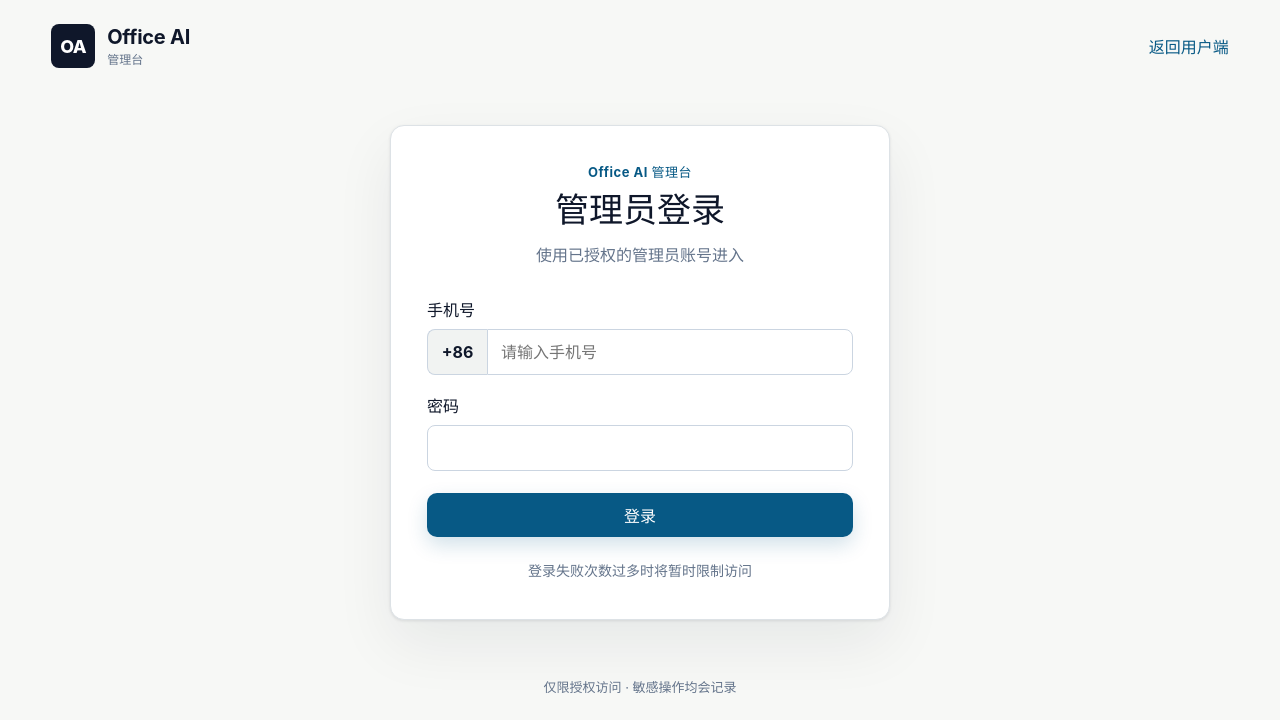
Test: Login view › does not let a normal user enter the administrator shell
Type "13800138000" into the field with test id "phone-number". click: (670, 352)
box: [487,329,853,375]
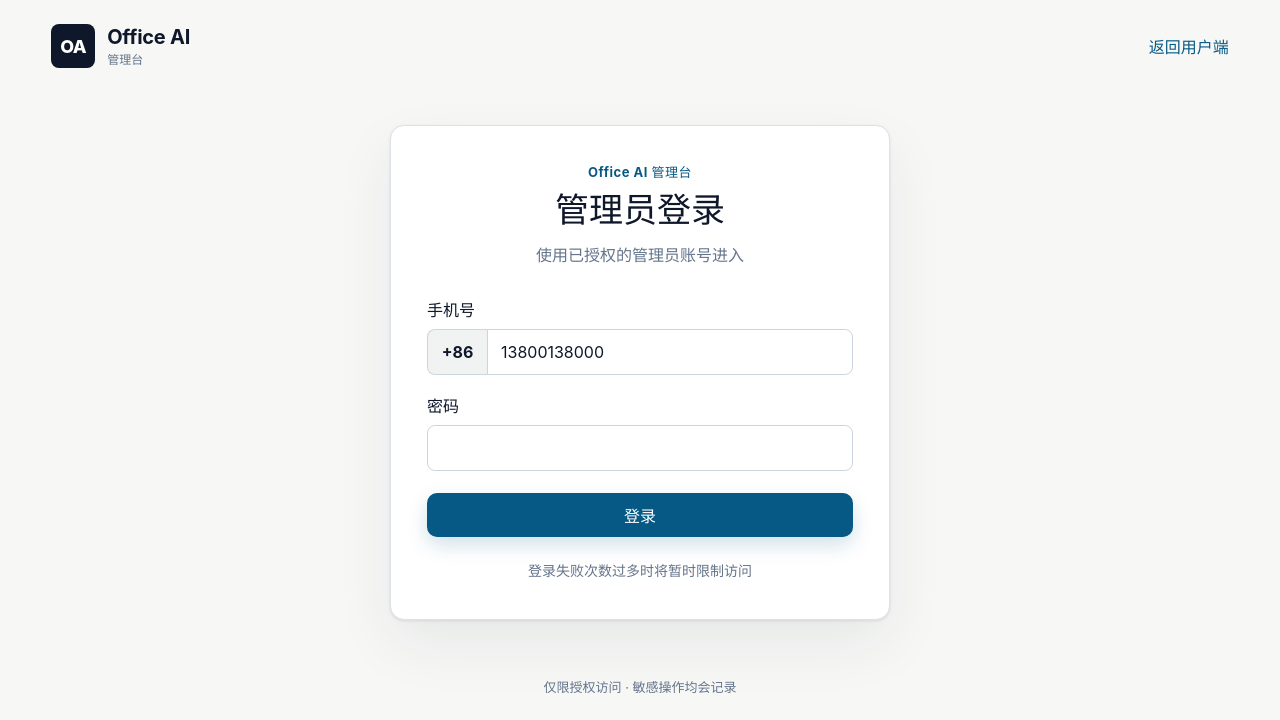
Type "safe-password" into the password field with test id "password". click: (640, 448)
box: [427,425,853,471]
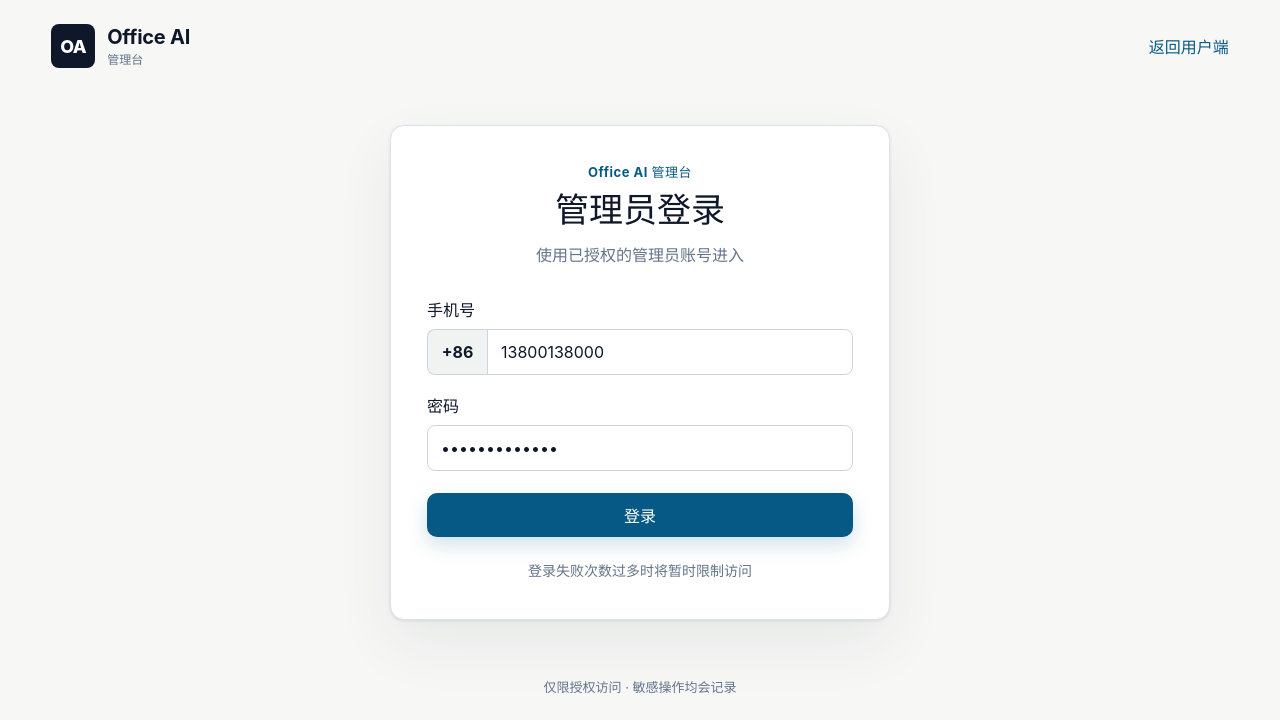
Submit the form with test id "login-submit", box [427,297,853,583]
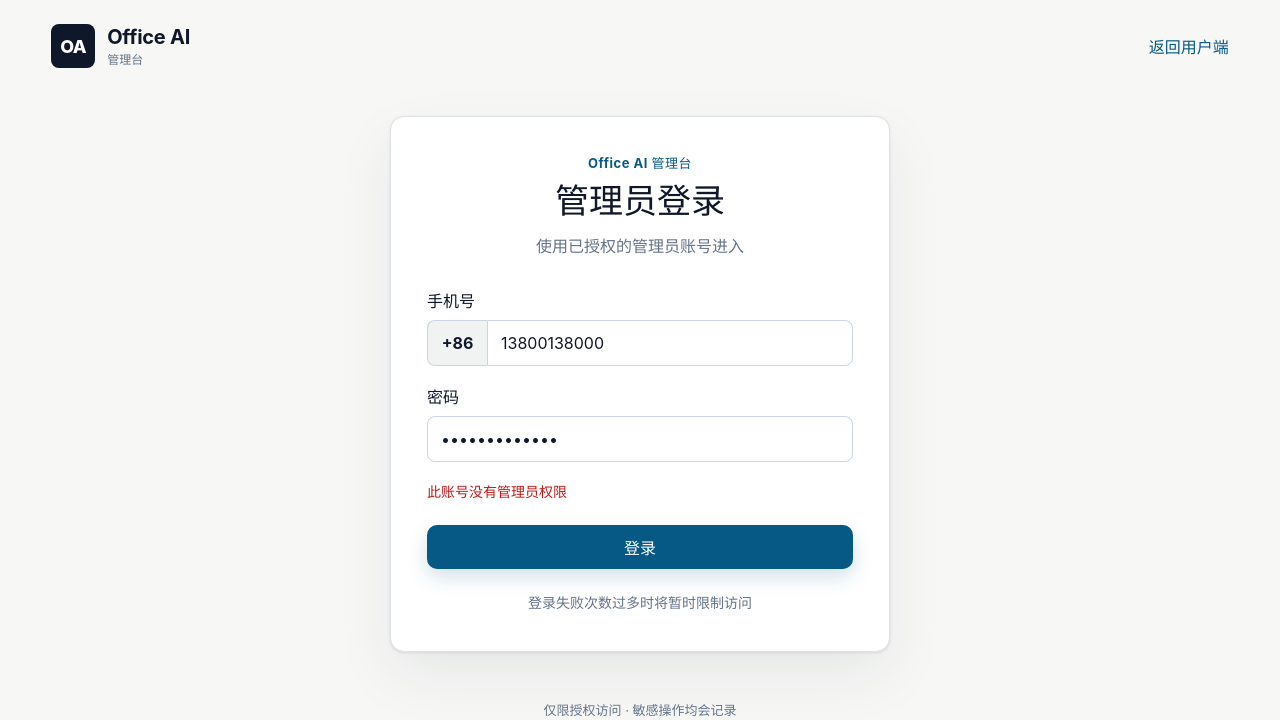
Expected: the text "此账号没有管理员权限" is shown, [427,483,567,500]
